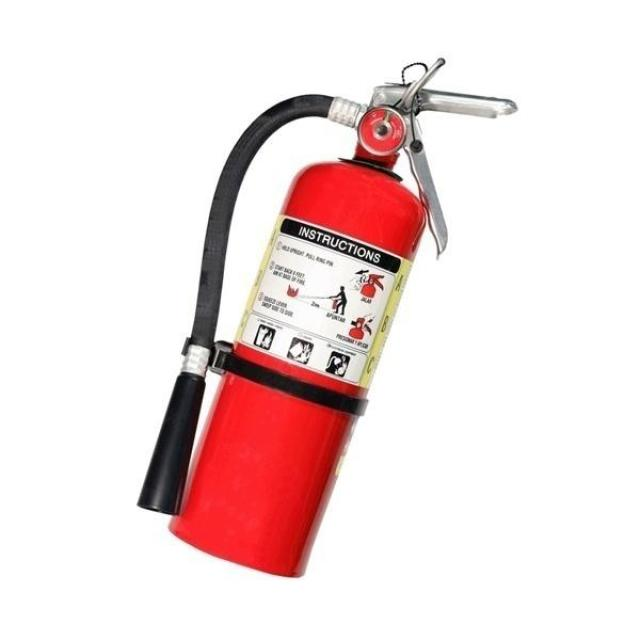fire_extinguisher: (132, 51, 521, 582)
